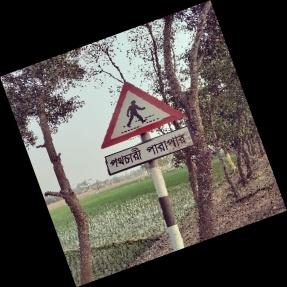Pedestrian-crossing: (100, 80, 193, 178)
